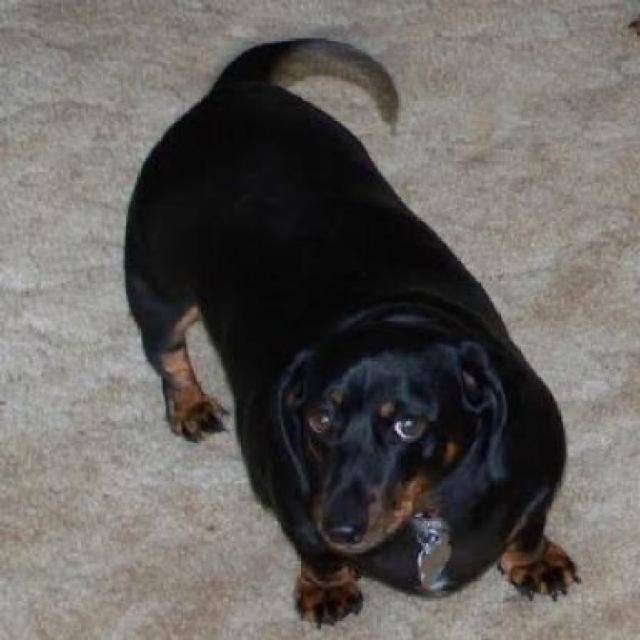Dog: (125, 34, 584, 631)
